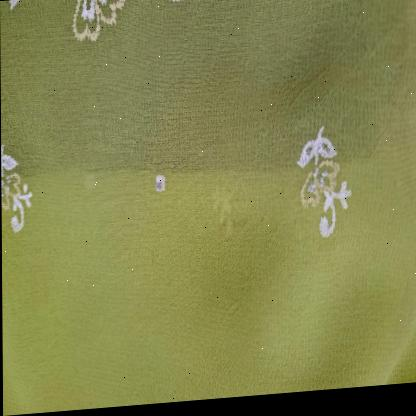spot: (278, 72, 326, 133), (83, 171, 99, 196)
